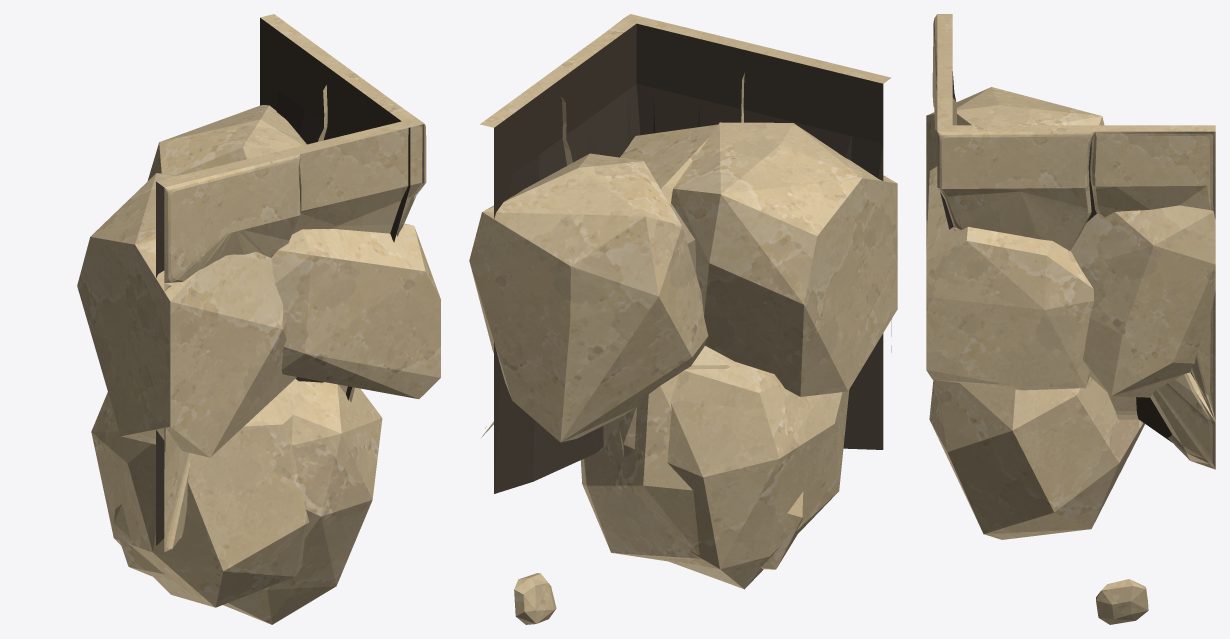
File: ground_bottom_square_corner_04.glb
The picture shows the model from 3 angles, left to right: view 1: azimuth 30°, elevation 25°; view 2: azimuth 150°, elevation 25°; view 3: azimuth 270°, elevation 25°; orthographic projection. The views are drawn at different scales.
Visible parts, largest first — view 1: GroundBottomSquareCorner04_Body; view 2: GroundBottomSquareCorner04_Body; view 3: GroundBottomSquareCorner04_Body.
Part boxes in pixels (bbox=[...]): GroundBottomSquareCorner04_Body: bbox=[77, 14, 440, 624]; GroundBottomSquareCorner04_Body: bbox=[469, 14, 897, 624]; GroundBottomSquareCorner04_Body: bbox=[926, 14, 1215, 624].
Bounding box in the file's own units: 1.04 × 1.96 × 1.04.
Materials: 10 (9 with a texture image).
